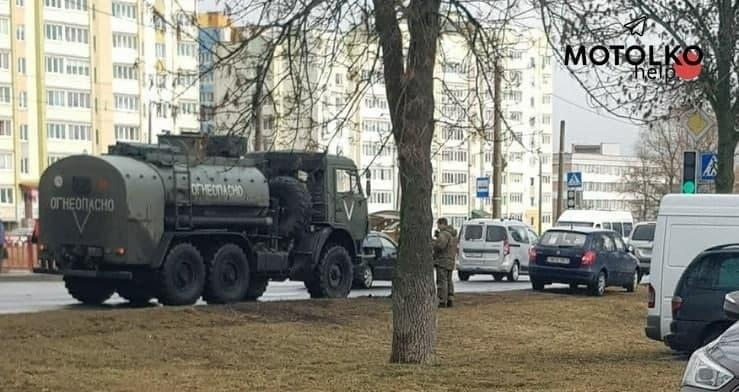car: (534, 228, 640, 290), (455, 216, 534, 280)
person: (433, 217, 456, 311)
truck: (41, 137, 369, 302)
